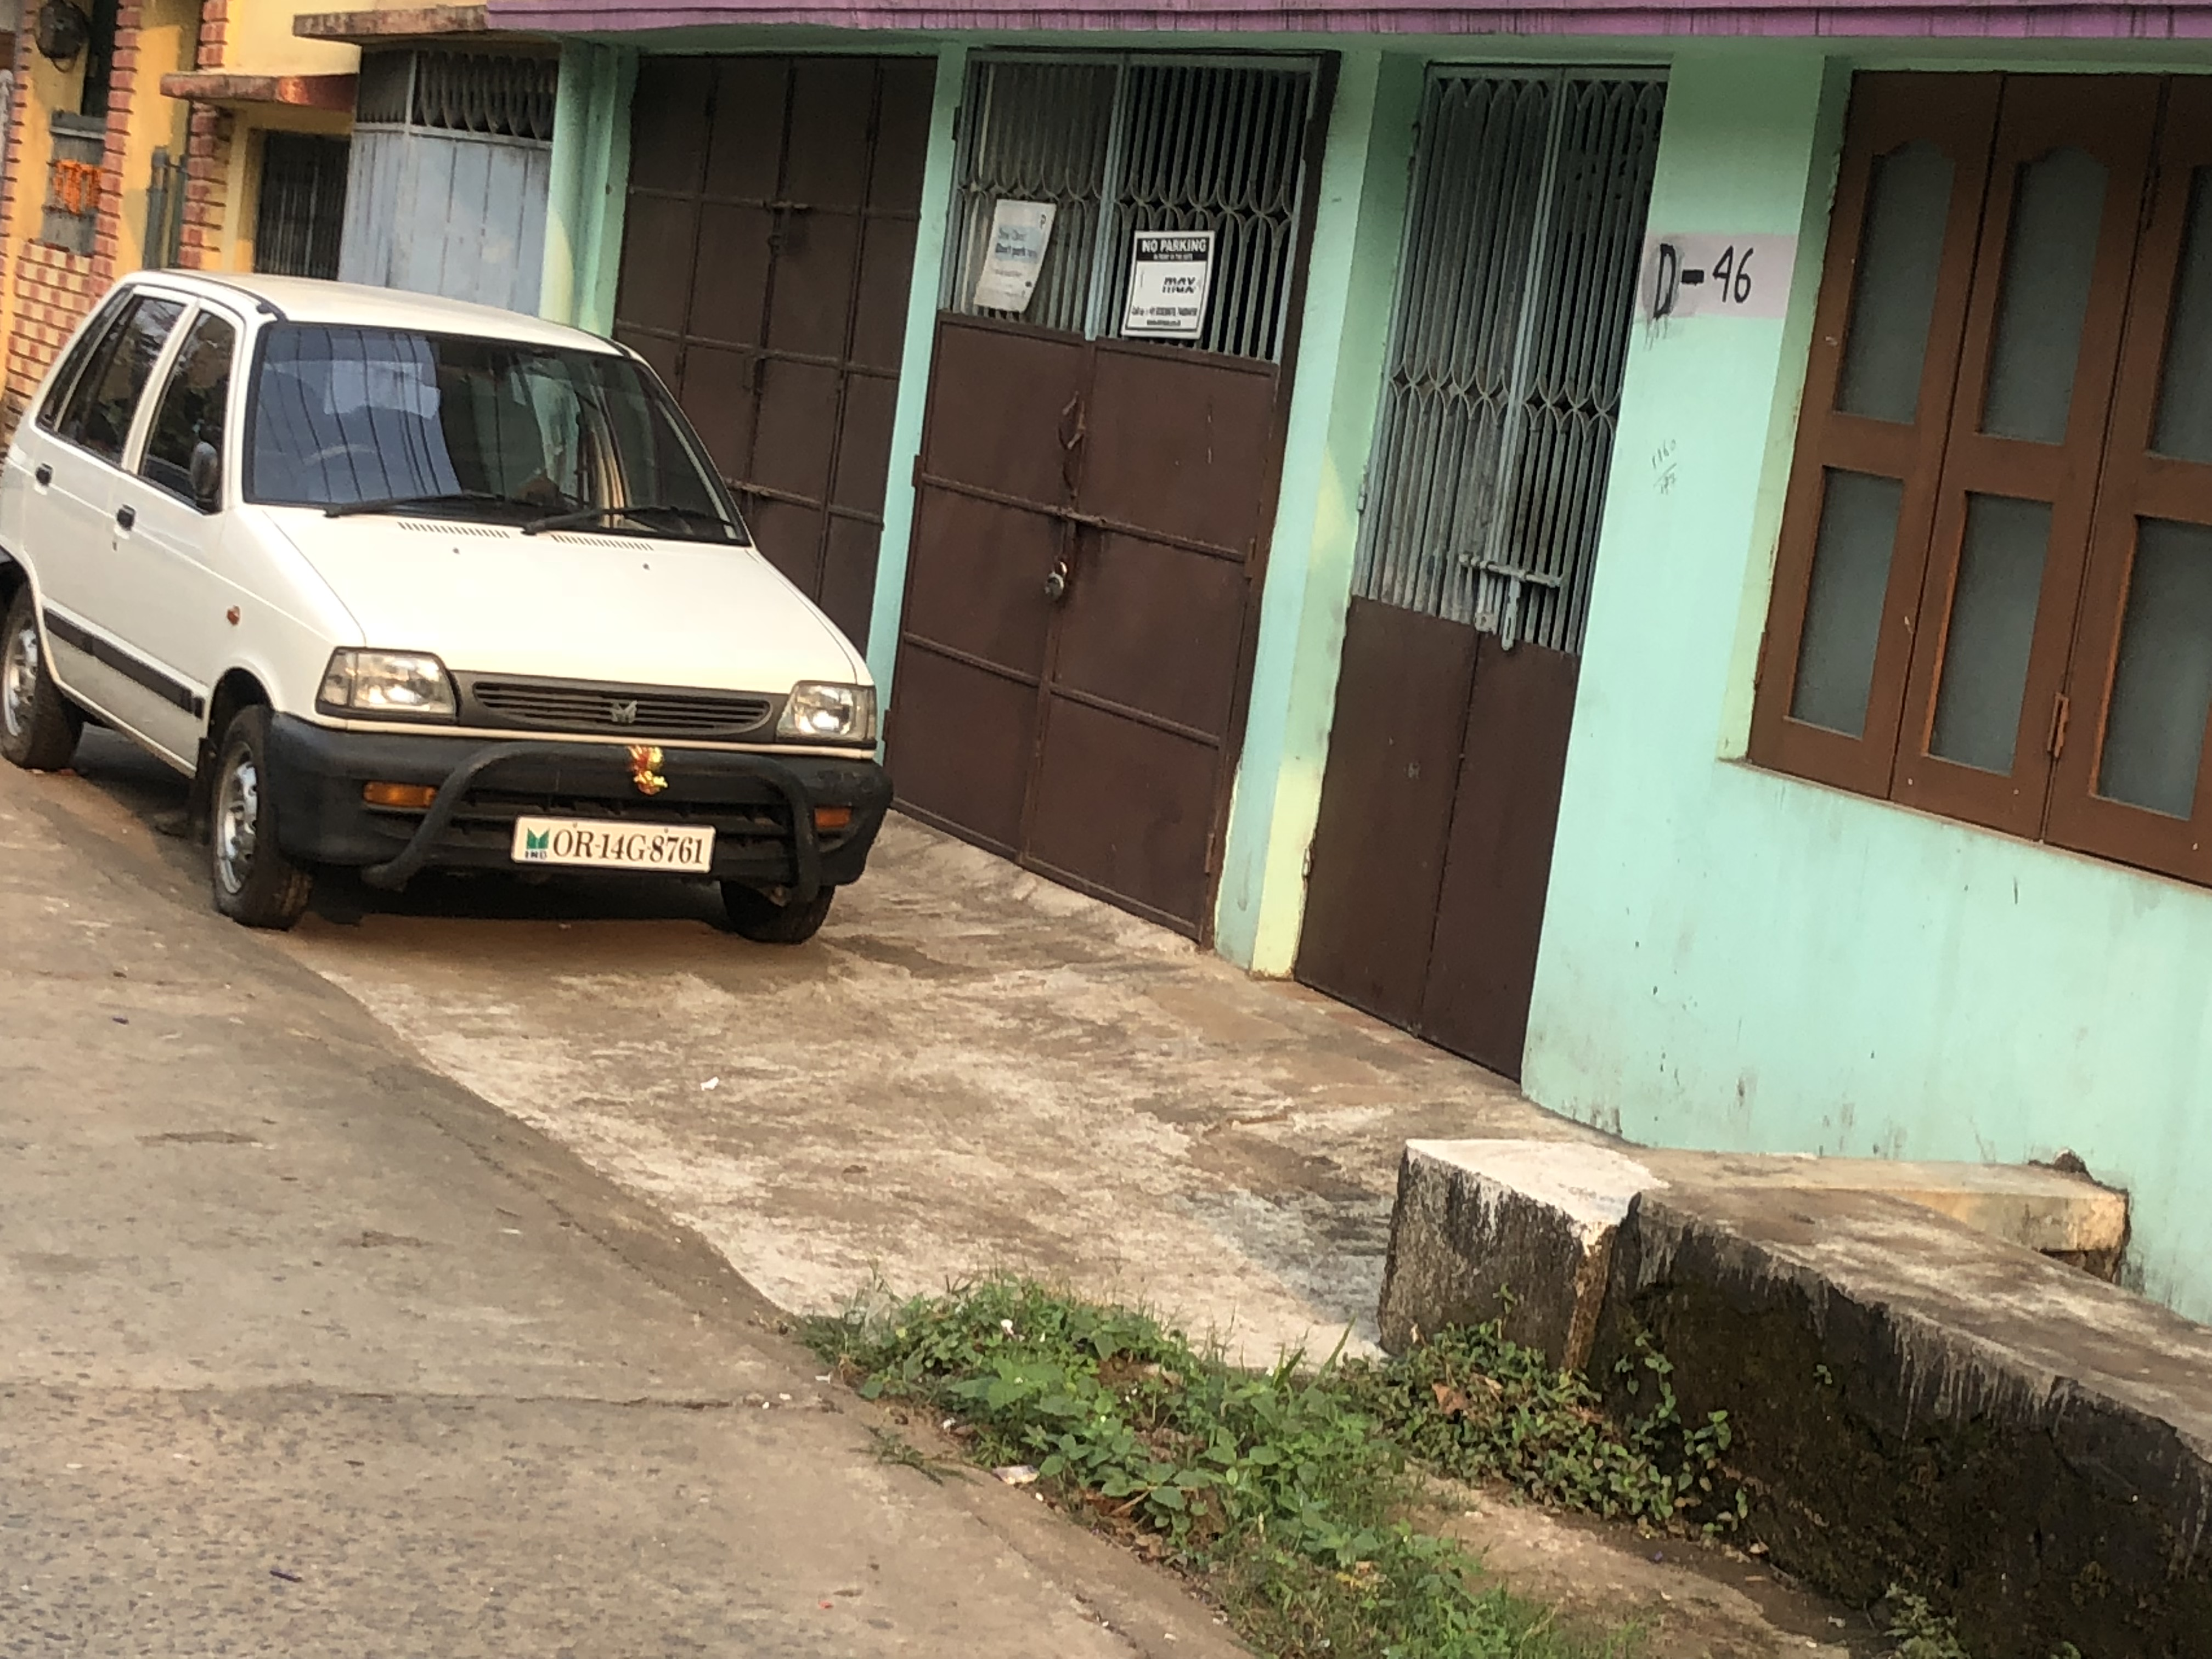licenseplate: (506, 804, 727, 893)
